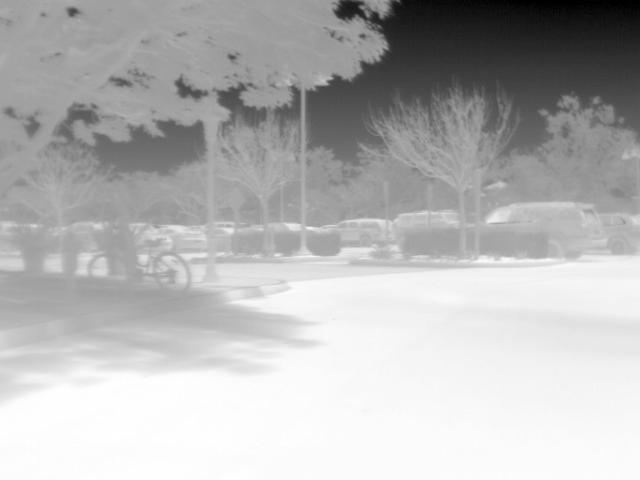car: (485, 200, 606, 260), (600, 214, 640, 257), (335, 218, 385, 246), (396, 211, 428, 236), (176, 229, 208, 253), (434, 209, 462, 230), (214, 227, 236, 253), (269, 220, 304, 234), (389, 219, 405, 244)
